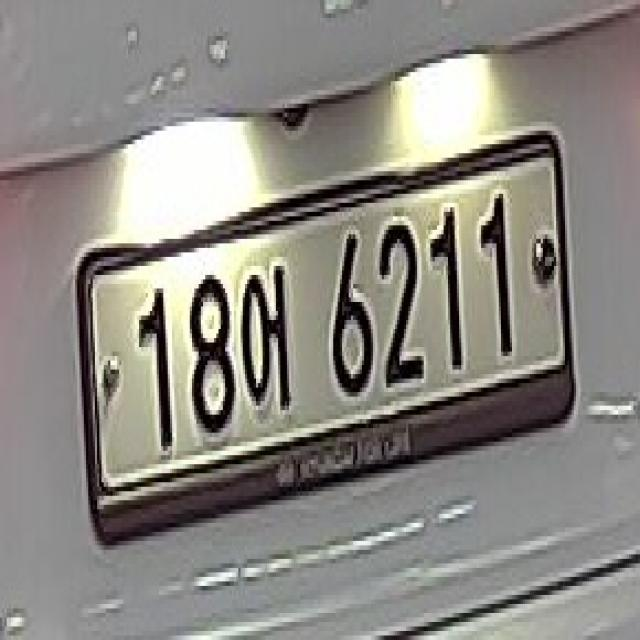1: (135, 271, 181, 474), (426, 194, 470, 383), (476, 176, 518, 374)
2: (377, 207, 426, 397)
6: (327, 216, 378, 410)
8: (186, 262, 238, 456)
eo: (238, 257, 294, 424)
license_plate: (75, 126, 578, 554)
